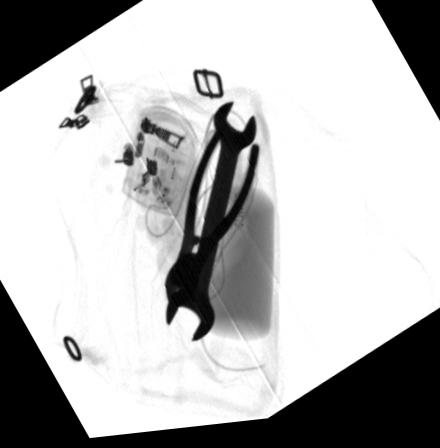Pliers: (163, 130, 260, 312)
Wrench: (165, 107, 258, 346)
